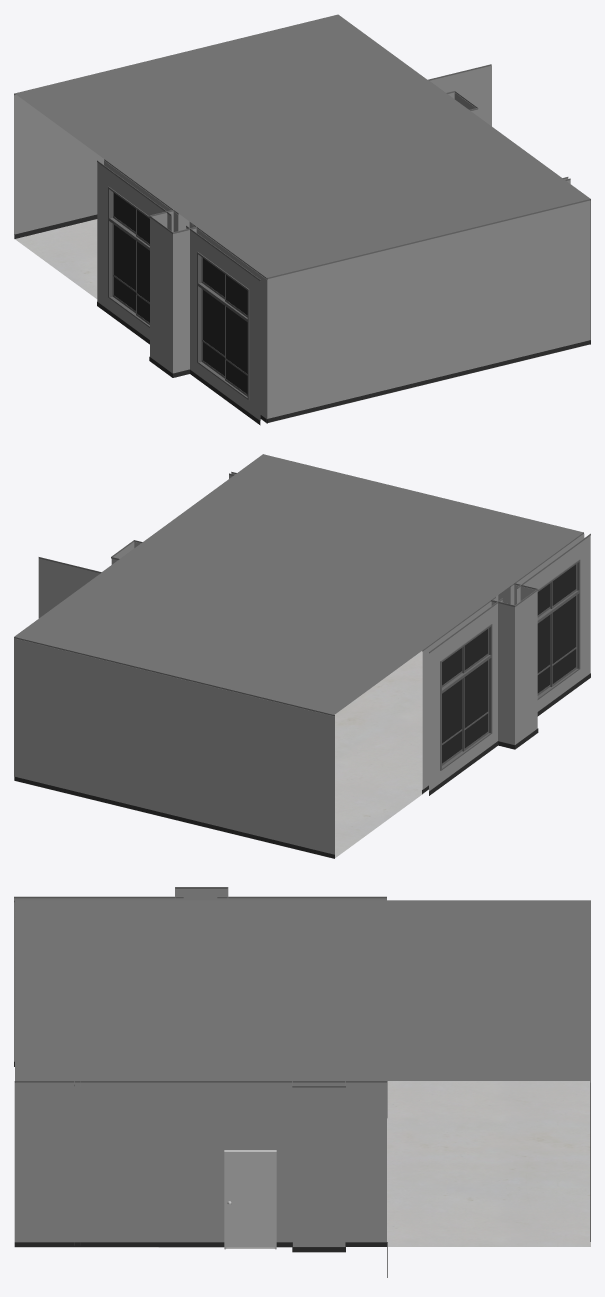
File: hospital_entrance_00.fbx
3 renders of one model, top to bottom at view 1: azimuth 30°, elevation 25°; view 2: azimuth 150°, elevation 25°; view 3: azimuth 270°, elevation 25°, orthographic. The views are drawn at different scales.
Parts seen in each view (by area): view 1: pPlane24, ceiling_B_1, ceiling_B, pPlane21, pCube132 (×2), pCube133, window01_1_win9 (×2), floor_B, window01_1_win10 (×2), pCube126 (×2), pPlane20, window01_1_frame2 (×2) (+3 smaller); view 2: pPlane21, ceiling_B_1, ceiling_B, pCube132 (×2), floor_B, pCube133, floor_B_1, window01_1_win10 (×2), window01_1_win9 (×2), pPlane20, pCube126 (×2), window01_1_win14 (×2) (+3 smaller); view 3: ceiling_B_1, ceiling_B, pCube131, floor_B, pCube135, pPlane16, door, pCube132 (×2), frame, pCube133.
Boxes of the visible parts, x1=… form: pPlane24: x1=266, y1=199, x2=590, y2=423; ceiling_B_1: x1=141, y1=107, x2=589, y2=277; ceiling_B: x1=15, y1=14, x2=463, y2=185; pPlane21: x1=14, y1=25, x2=294, y2=238; pCube132 (×2): x1=97, y1=160, x2=260, y2=425; pCube133: x1=149, y1=205, x2=212, y2=377; window01_1_win9 (×2): x1=112, y1=224, x2=224, y2=378; floor_B: x1=15, y1=219, x2=97, y2=298; window01_1_win10 (×2): x1=136, y1=241, x2=247, y2=396; pCube126 (×2): x1=104, y1=159, x2=267, y2=423; pPlane20: x1=428, y1=64, x2=491, y2=126; window01_1_frame2 (×2): x1=108, y1=218, x2=249, y2=400; pPlane21: x1=14, y1=637, x2=334, y2=858; ceiling_B_1: x1=139, y1=454, x2=582, y2=623; ceiling_B: x1=14, y1=545, x2=458, y2=714; pCube132 (×2): x1=429, y1=533, x2=590, y2=795; floor_B: x1=14, y1=737, x2=428, y2=858; pCube133: x1=475, y1=579, x2=538, y2=749; floor_B_1: x1=335, y1=651, x2=422, y2=758; window01_1_win10 (×2): x1=462, y1=595, x2=577, y2=751; window01_1_win9 (×2): x1=442, y1=615, x2=550, y2=765; pPlane20: x1=38, y1=557, x2=101, y2=618; pCube126 (×2): x1=422, y1=532, x2=584, y2=793; window01_1_win14 (×2): x1=462, y1=564, x2=577, y2=673; ceiling_B_1: x1=15, y1=900, x2=303, y2=1080; ceiling_B: x1=303, y1=900, x2=590, y2=1080; pCube131: x1=14, y1=1081, x2=302, y2=1247; floor_B: x1=387, y1=1081, x2=590, y2=1246; pCube135: x1=292, y1=1063, x2=345, y2=1252; pPlane16: x1=302, y1=1081, x2=386, y2=1246; door: x1=226, y1=1153, x2=274, y2=1247; pCube132 (×2): x1=14, y1=896, x2=386, y2=900; frame: x1=224, y1=1150, x2=276, y2=1249; pCube133: x1=175, y1=887, x2=228, y2=909.
Size of the model in its own units: 1037 by 350 by 1102.
